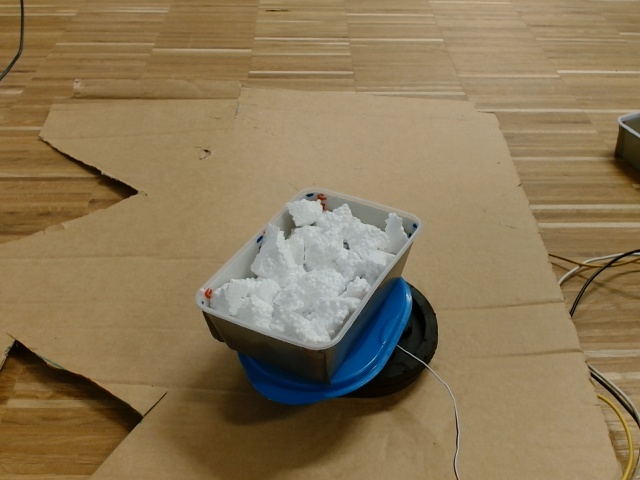Small_threequarter: (200, 186, 422, 352)
